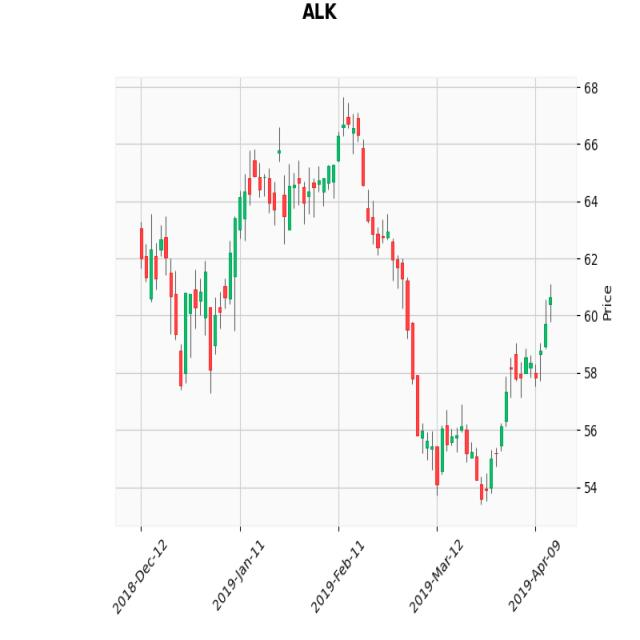Double-Bottom: (403, 332, 525, 514), (156, 209, 246, 392)
